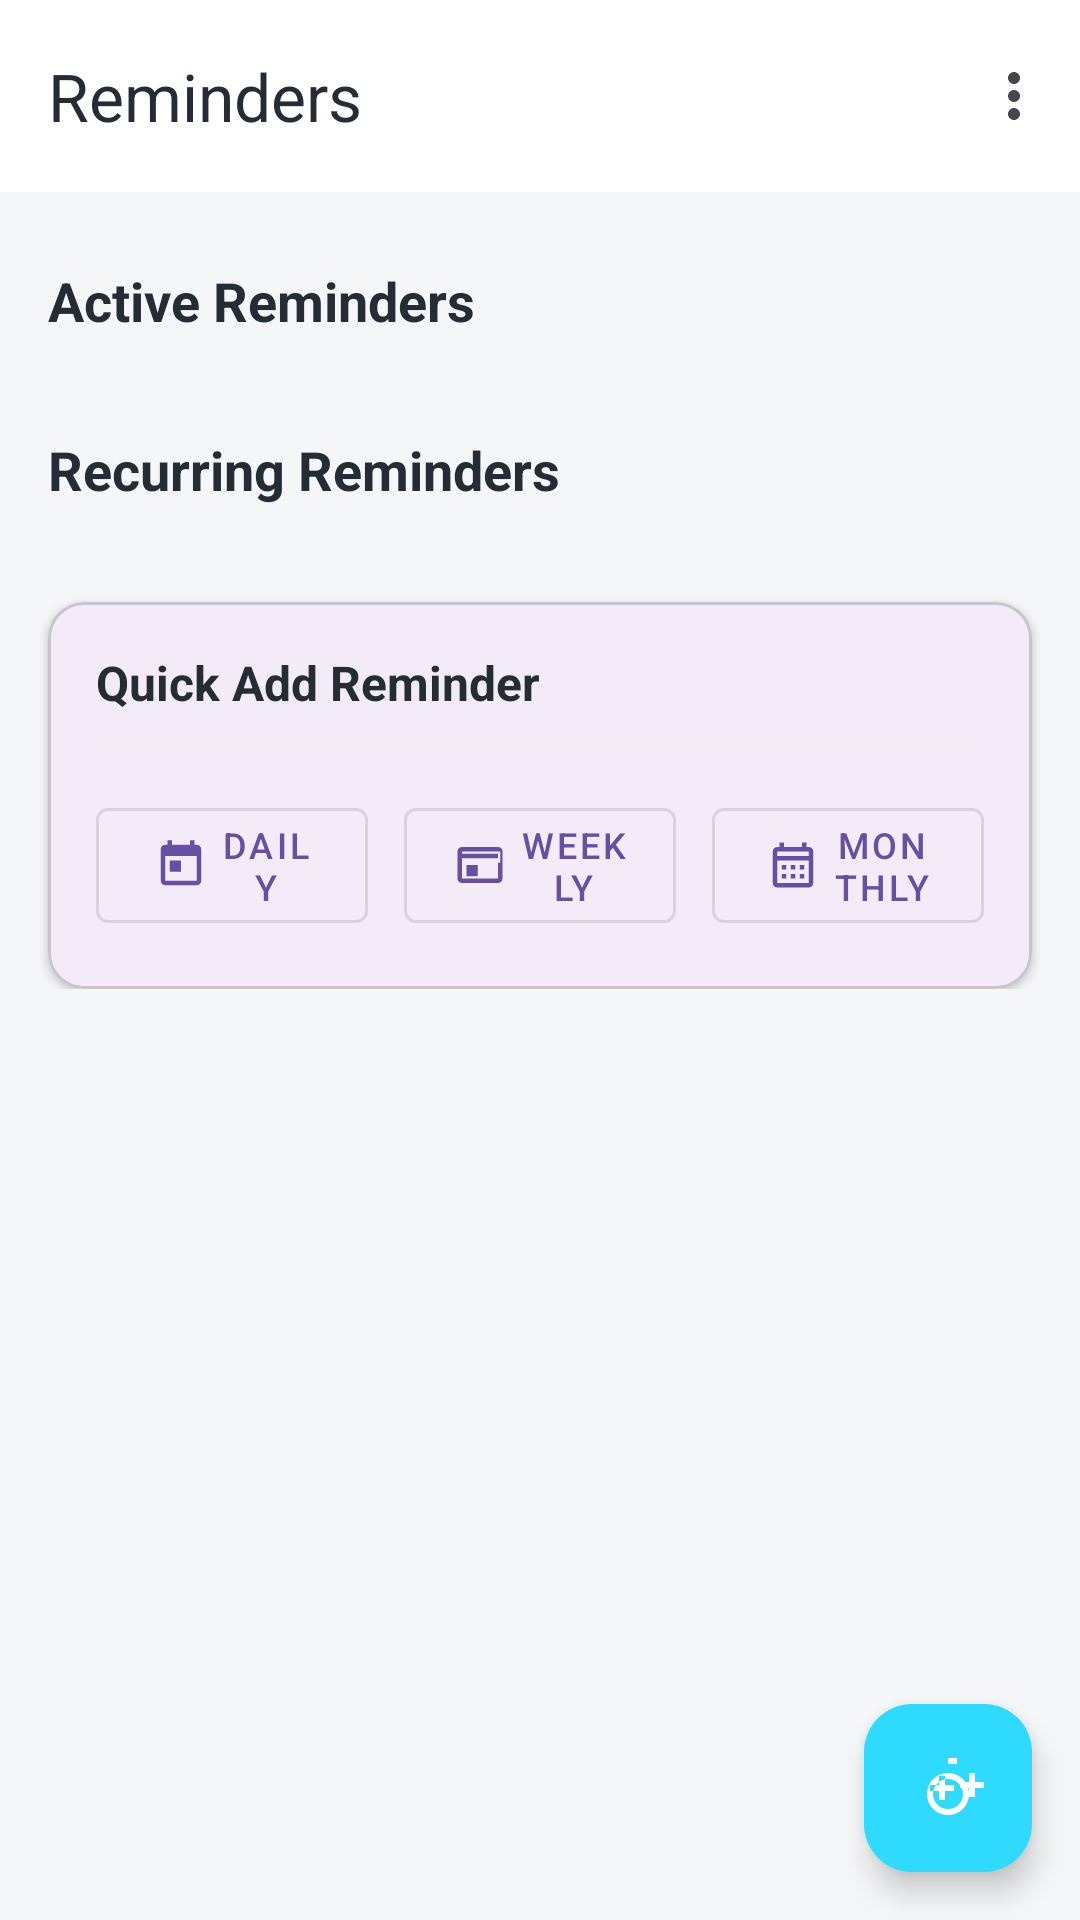

Where icons sit on this 1080*1920 app screen, as (x1, y1, x2, y2):
add reminder: (864, 1704, 1032, 1872)
